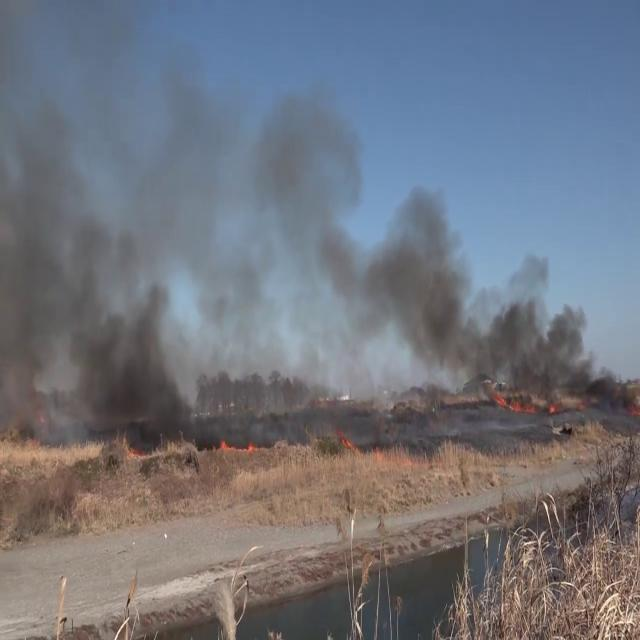Smoke: (3, 37, 360, 430), (340, 188, 610, 412)
